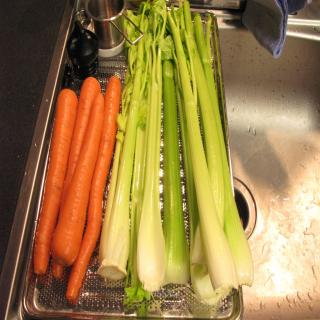Carrot: (63, 76, 119, 297), (52, 78, 103, 276), (53, 92, 104, 267), (32, 87, 77, 275)
